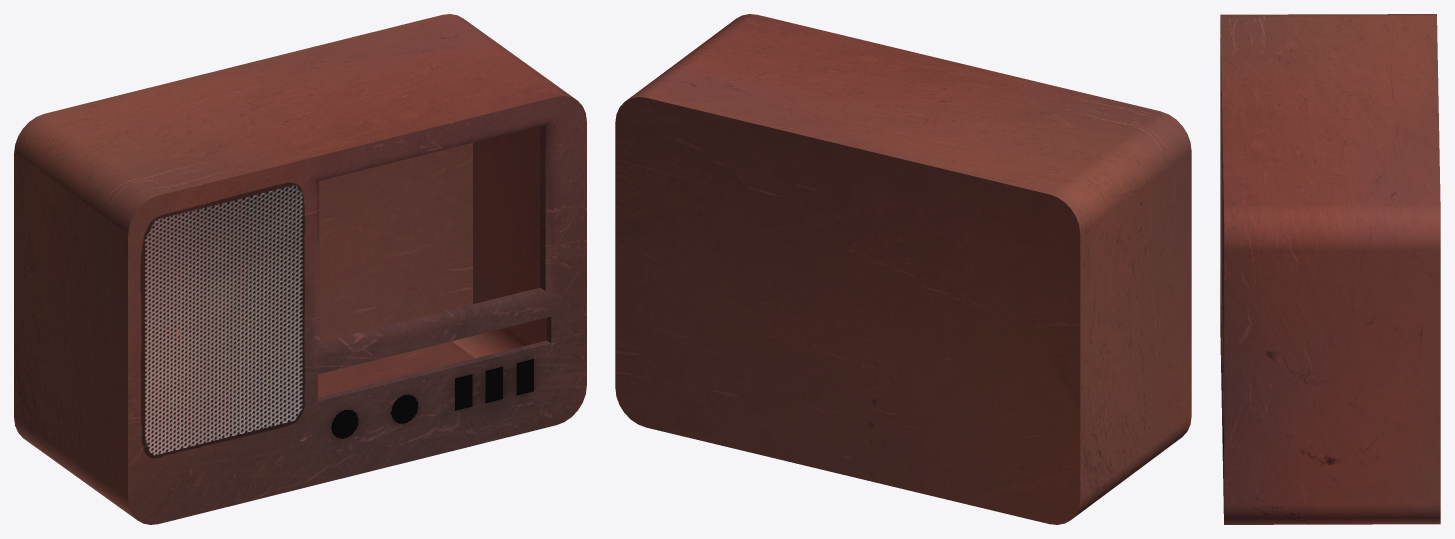
The model's file is radio_body.fbx.
3 views of the same model, side by side, from view 1: azimuth 30°, elevation 25°; view 2: azimuth 150°, elevation 25°; view 3: azimuth 270°, elevation 25° (orthographic). The views are drawn at different scales.
Parts seen in each view (by area): view 1: Radio; view 2: Radio; view 3: Radio.
Boxes of the visible parts, left/top/right/bottom form: Radio: left=14, top=14, right=586, bottom=524; Radio: left=615, top=14, right=1191, bottom=524; Radio: left=1220, top=14, right=1440, bottom=524.
Size of the model in its own units: 0.5034 by 0.3416 by 0.216.
Materials: 1 (1 with a texture image).
